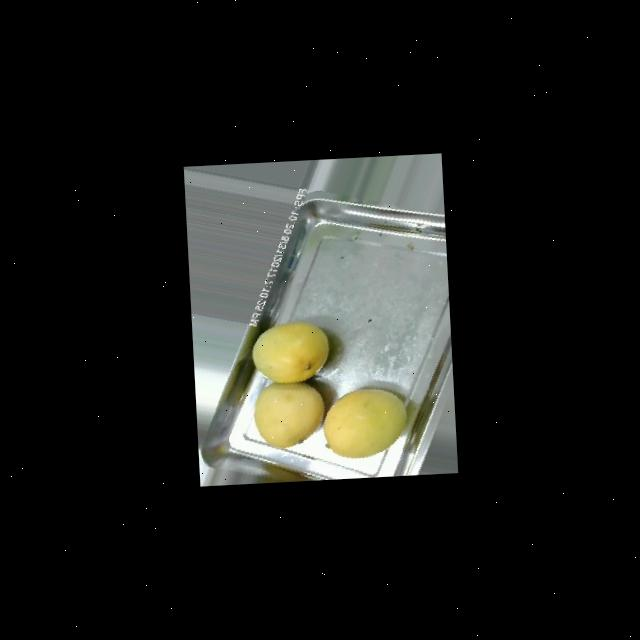Mango: (320, 386, 408, 460), (250, 380, 326, 450), (249, 320, 330, 384)
